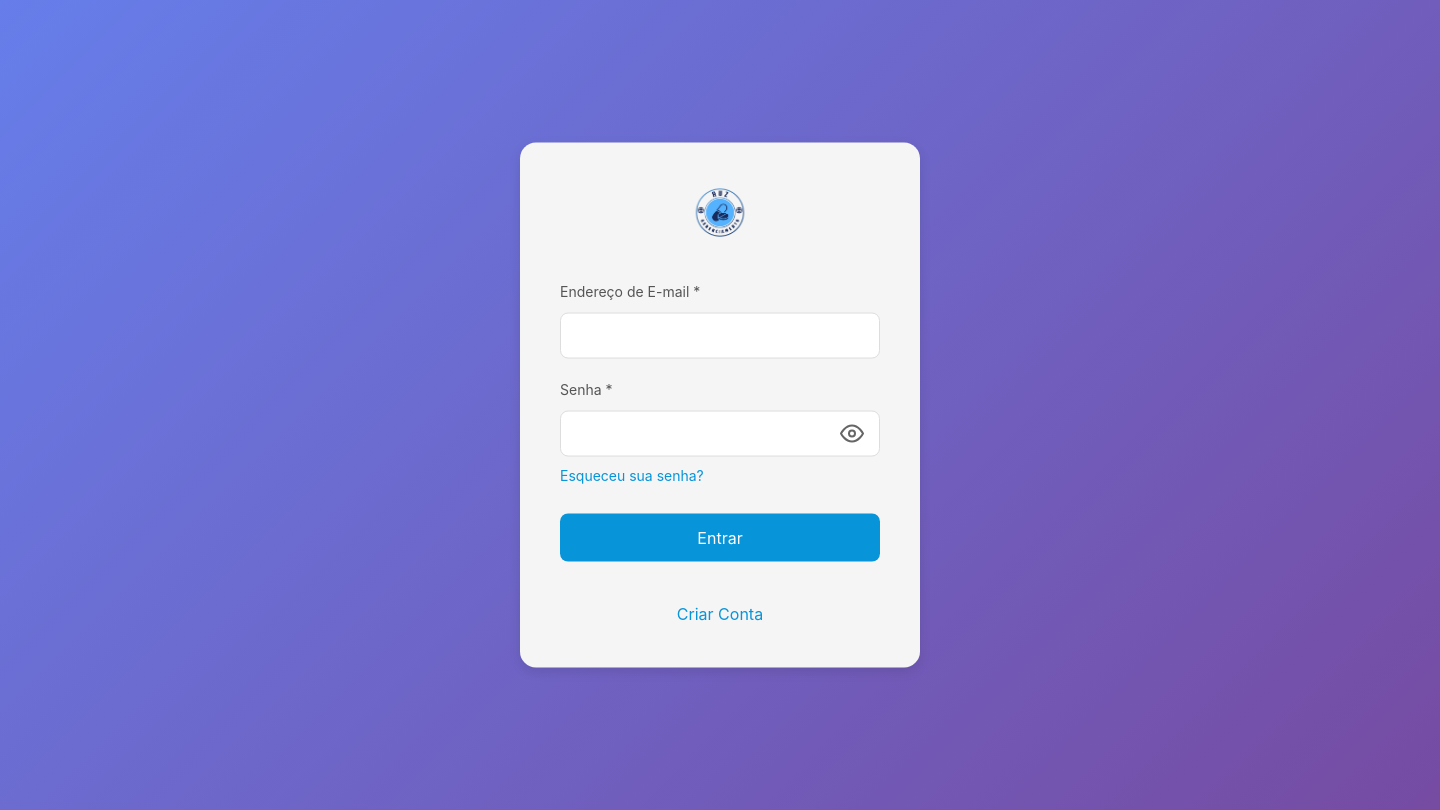
Test case: Login Component › shows validation errors for empty fields
What coordinates should you click on to do the following:
click the button "Entrar"
I would click on:
 (720, 538)
Its box is [560, 514, 880, 562].
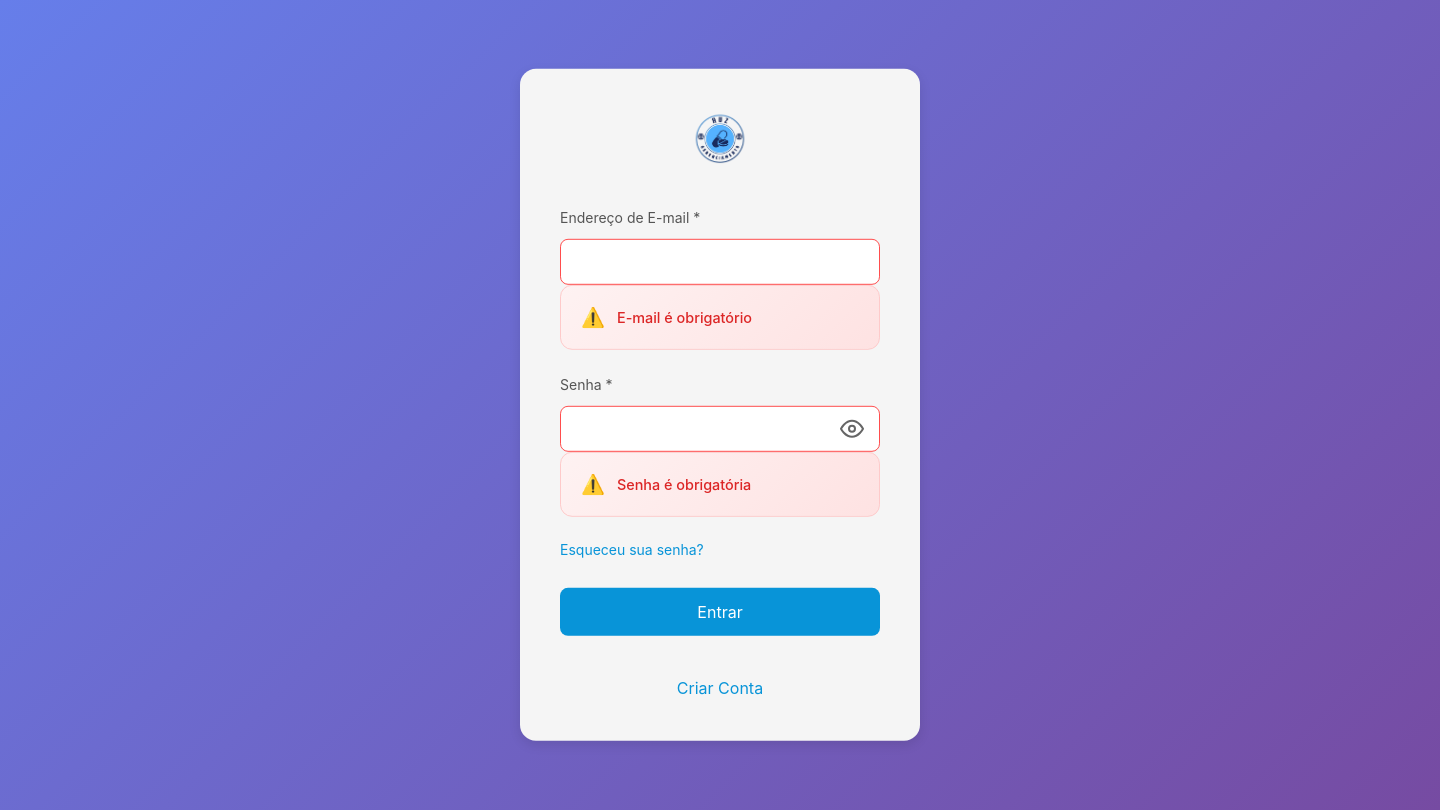
Expected: the text "E-mail é obrigatório" is shown, [560, 285, 880, 350]
Expected: the text "Senha é obrigatória" is shown, [560, 452, 880, 517]
